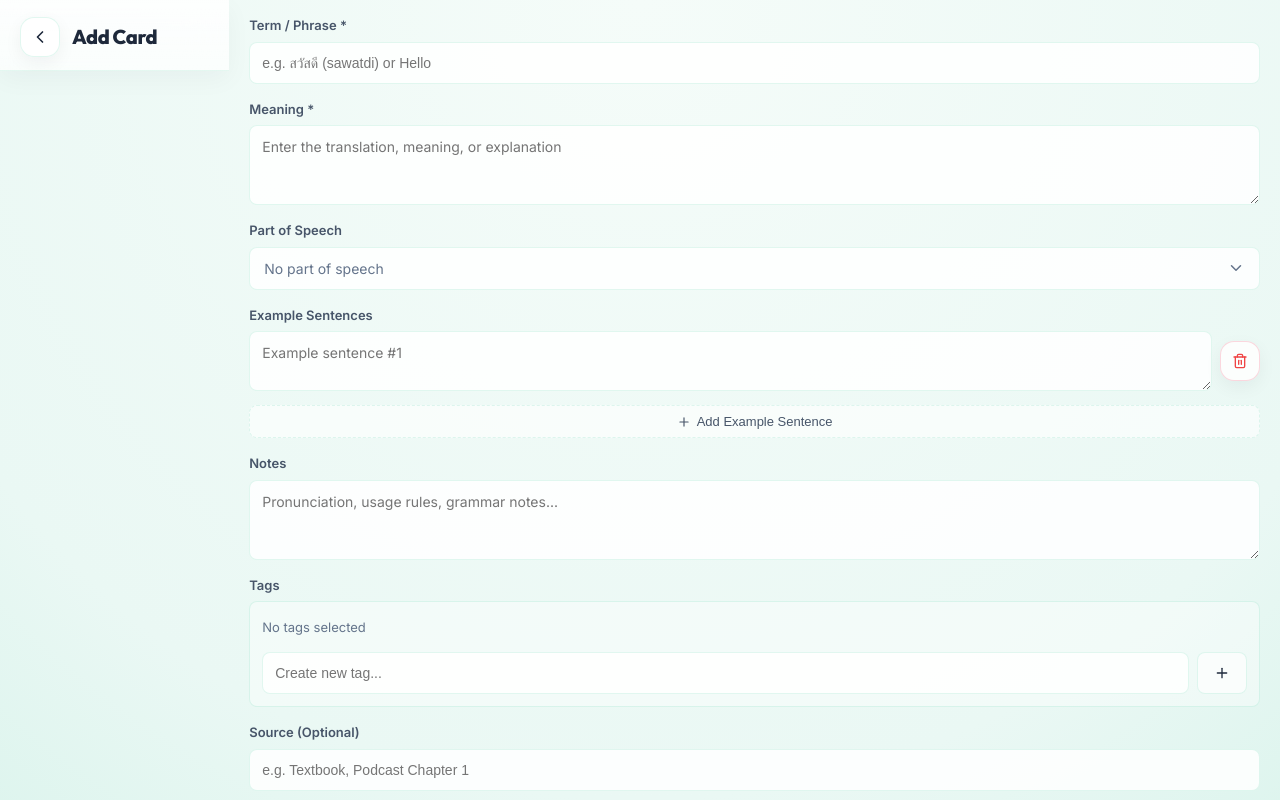
CardForm AI generation › keeps AI generated tags in the configured output language without adding English language tags
Type "nimble" into the field with placeholder "e.g. สวัสดี (sawatdi) or Hello" at (755, 62), box [249,42,1260,84]
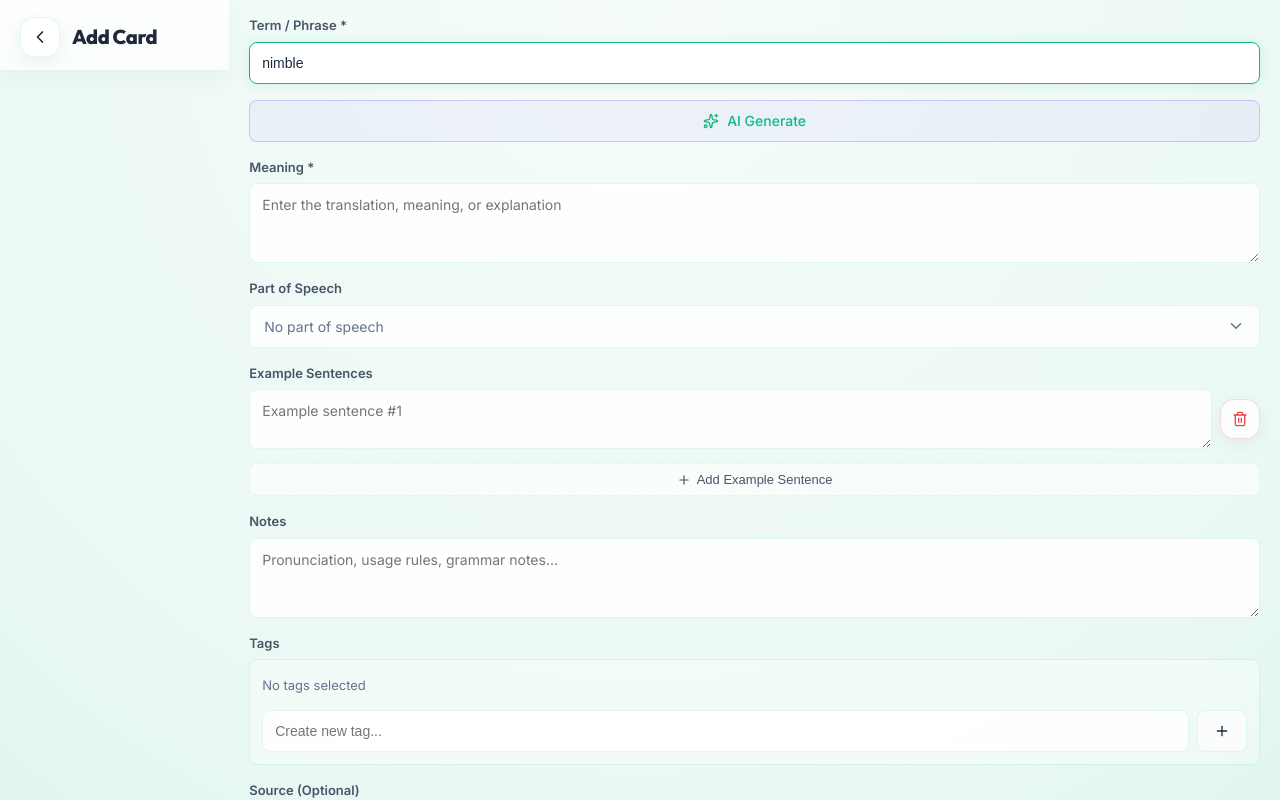
Click the button "AI Generate" at (755, 120), box [249,100,1260,142]
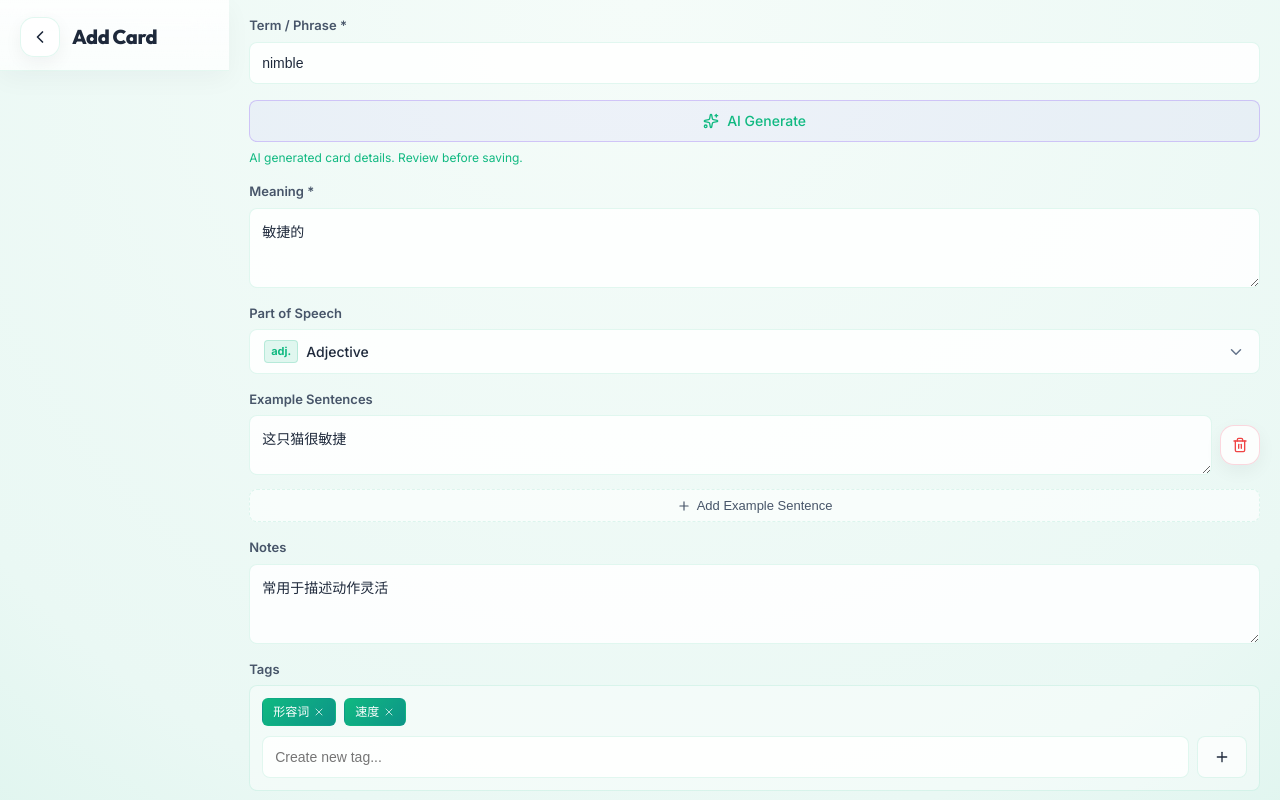
expect the text box with placeholder "Enter the translation, meaning, or explanation" below "Meaning *" holds "敏捷的": met, box [249,208,1260,288]
expect the text "形容词" is shown: met, box [273,703,309,721]
expect the text "速度" is shown: met, box [355,703,379,721]
